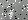person: (6, 8, 16, 20)
